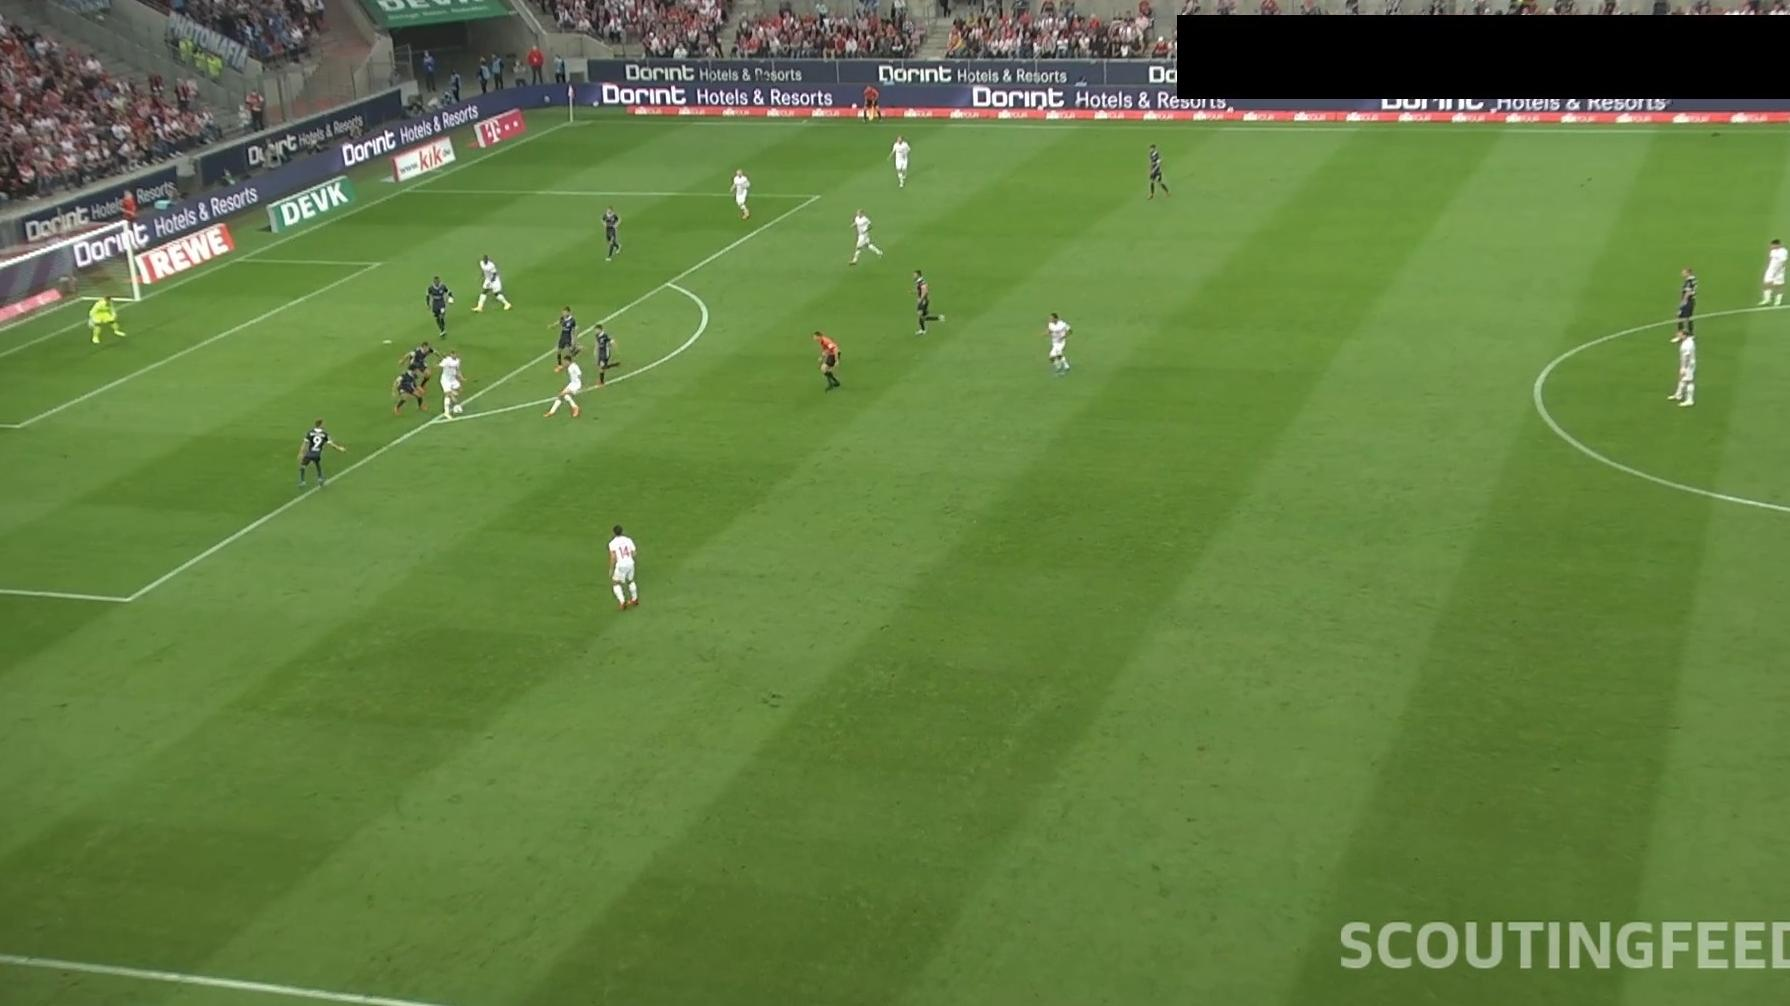ball: (452, 403, 465, 416)
